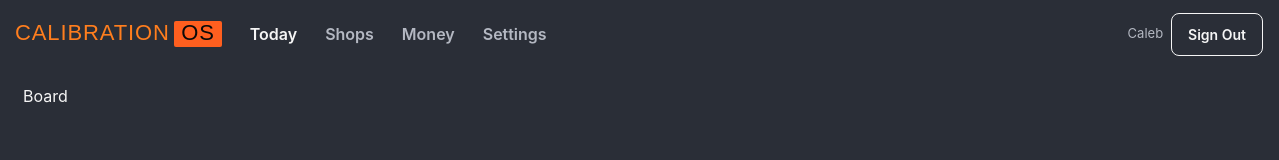
it: the menu button opens the owner nav and closes after a choice
Earlier steps of the test are not shown.
Expected: the navigation bar with test id "owner-nav" has class "open", [250,24,547,44]
Click the link with test id "nav-shops". click: (349, 34)
box: [325,24,374,44]
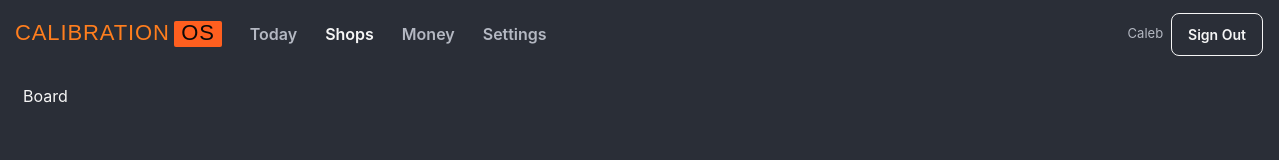
Now the navigation bar with test id "owner-nav" does not have class "open", box [250,24,547,44]
Now the link with test id "nav-shops" has class "active", box [325,24,374,44]
